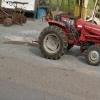Tractor: (40, 8, 100, 71)
